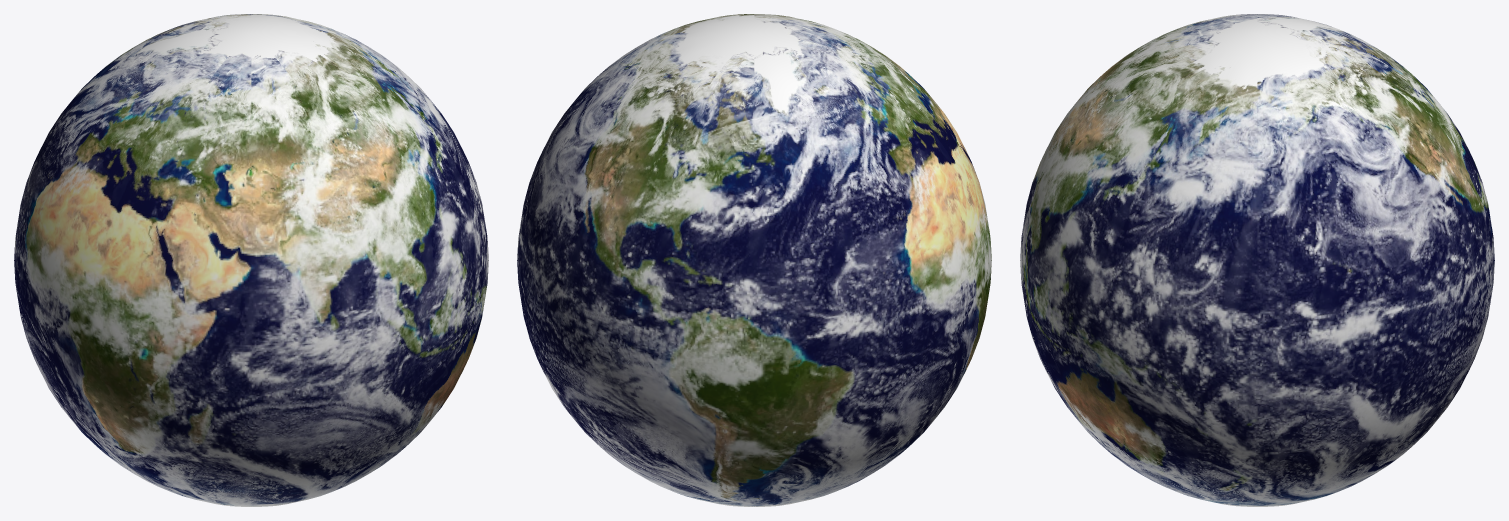
3 views of the same model, side by side, from view 1: azimuth 30°, elevation 25°; view 2: azimuth 150°, elevation 25°; view 3: azimuth 270°, elevation 25° (orthographic).
Visible parts, largest first — view 1: SketchUp; view 2: SketchUp; view 3: SketchUp.
Part boxes in pixels (left/top/right/bottom): SketchUp: left=14, top=14, right=488, bottom=506; SketchUp: left=517, top=14, right=991, bottom=506; SketchUp: left=1020, top=14, right=1494, bottom=506.
Size of the model in its own units: 85.03 by 85.03 by 89.48.
1 material, 1 textured.
